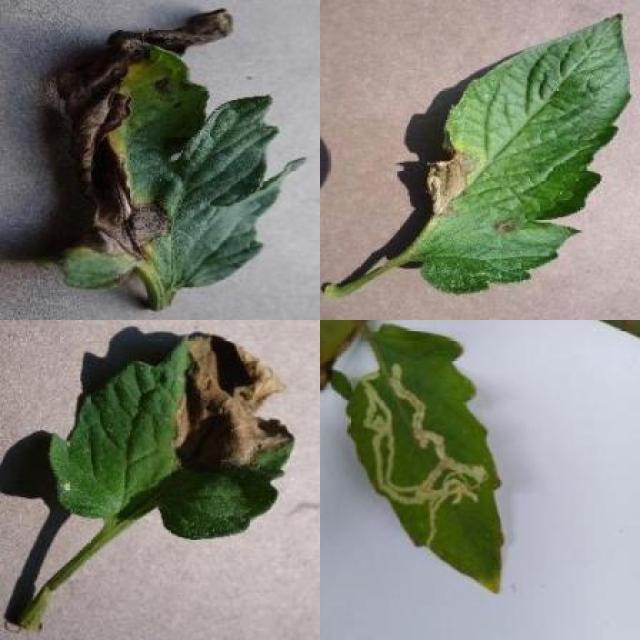Early Blight: (52, 38, 308, 293)
Late Blight: (422, 12, 632, 294), (50, 330, 299, 540)
Leaf Miner: (346, 322, 506, 597)
